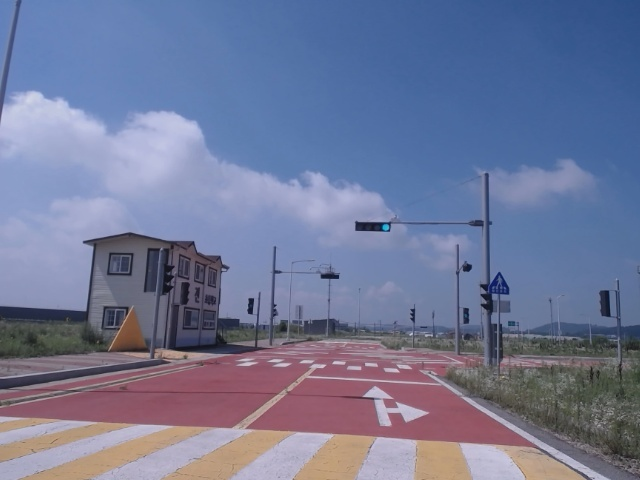straight_green_4: (356, 222, 390, 232)
